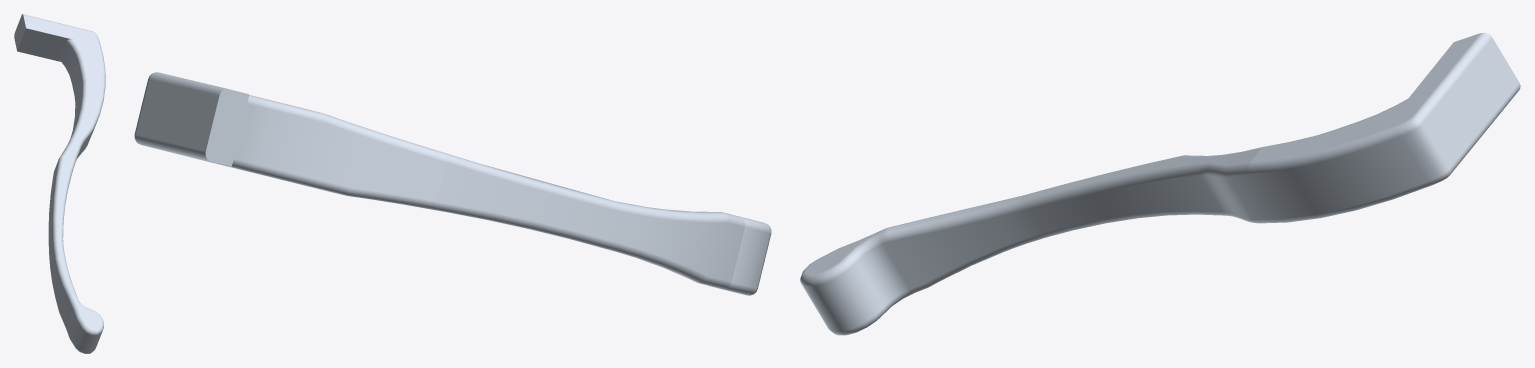
Rendered from RB-012_viewer.glb.
The picture shows the model from 3 angles, left to right: view 1: azimuth 30°, elevation 25°; view 2: azimuth 150°, elevation 25°; view 3: azimuth 270°, elevation 25°; orthographic projection. The views are drawn at different scales.
Visible parts, largest first — view 1: basebody_imported1; view 2: basebody_imported1; view 3: basebody_imported1.
Boxes of the visible parts, box(x1,y1,x2,y2) form: basebody_imported1: box(14, 14, 105, 353); basebody_imported1: box(134, 72, 771, 295); basebody_imported1: box(800, 32, 1520, 335).
Bounding box in the file's own units: 0.00629 × 0.00729 × 0.0121.
